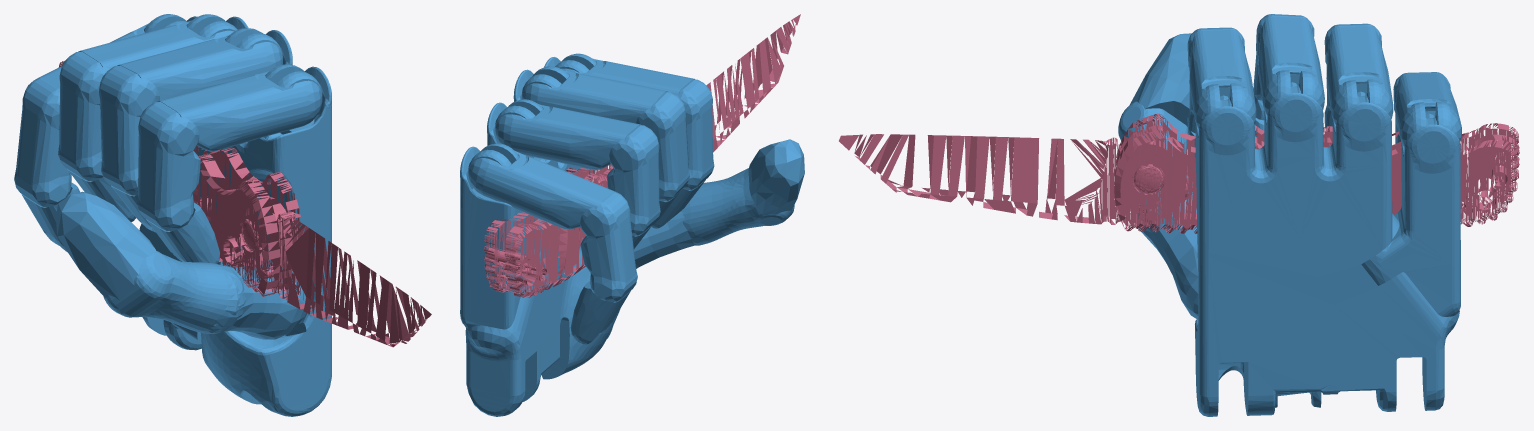
The picture shows the model from 3 angles, left to right: view 1: azimuth 30°, elevation 25°; view 2: azimuth 150°, elevation 25°; view 3: azimuth 270°, elevation 25°; orthographic projection. The views are drawn at different scales.
Visible parts, largest first — view 1: 0; view 2: 0; view 3: 0.
Boxes of the visible parts, <box> form: 0: <box>14,14,431,416</box>; 0: <box>460,14,804,416</box>; 0: <box>839,14,1519,416</box>.
Size of the model in its own units: 0.1003 by 0.1198 by 0.2198.
